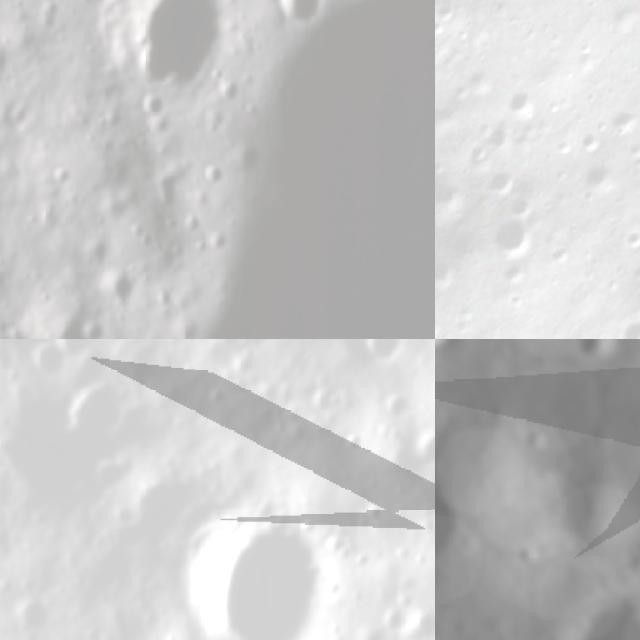crater: (177, 501, 340, 640), (0, 383, 136, 514), (435, 443, 510, 608), (114, 0, 237, 88), (541, 455, 640, 553), (487, 202, 547, 262), (42, 302, 113, 339), (563, 339, 630, 378), (7, 594, 60, 636), (484, 160, 527, 204), (582, 157, 624, 200), (97, 268, 142, 307), (505, 84, 548, 124), (435, 248, 470, 295), (26, 341, 70, 378), (152, 167, 186, 214), (274, 0, 328, 29), (499, 253, 538, 292), (196, 226, 238, 262), (605, 99, 640, 142), (360, 339, 409, 369), (76, 349, 114, 387), (382, 389, 422, 424), (376, 604, 413, 640), (507, 186, 541, 224), (412, 423, 435, 478), (576, 126, 614, 159), (485, 120, 520, 152), (0, 40, 21, 93), (82, 238, 114, 272), (466, 136, 497, 170), (550, 239, 580, 271), (196, 162, 227, 192), (410, 604, 435, 640), (44, 163, 78, 189), (617, 219, 640, 256), (437, 0, 468, 24), (616, 309, 640, 339), (78, 316, 109, 339), (343, 430, 367, 456), (156, 287, 178, 313), (435, 14, 454, 40), (182, 214, 198, 240)
